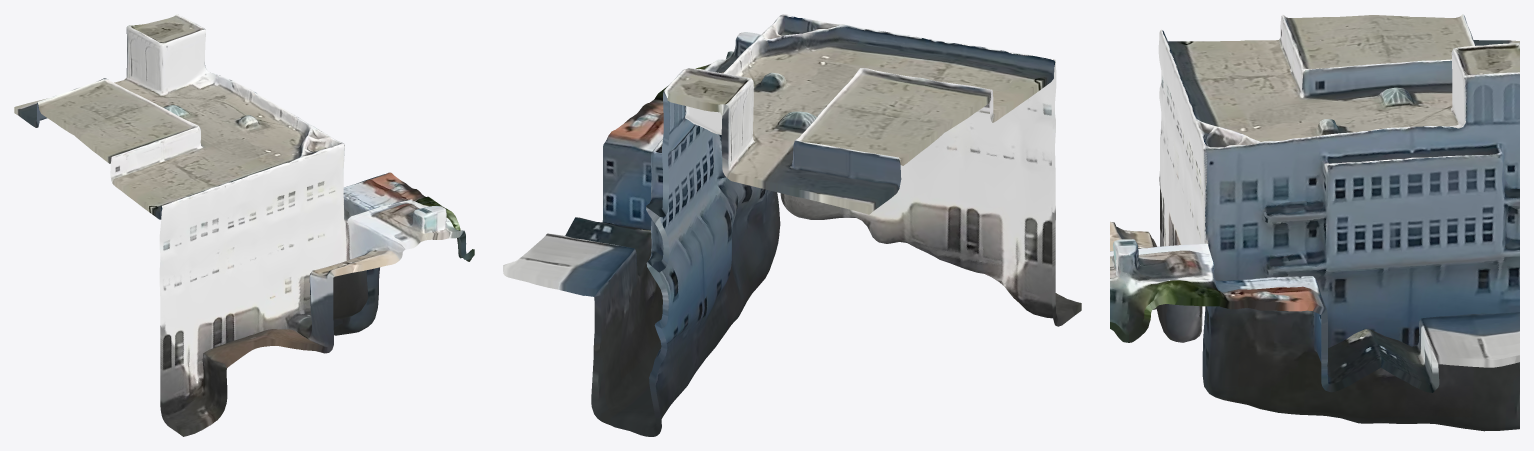
The model's file is z20-167742-405197-h0-yup-uvflip-v3-world.glb.
3 renders of one model, left to right at view 1: azimuth 30°, elevation 25°; view 2: azimuth 150°, elevation 25°; view 3: azimuth 270°, elevation 25°, orthographic. The views are drawn at different scales.
Bounding box in the file's own units: 30.16 × 27.68 × 30.32.
Materials: 1 (1 with a texture image).
